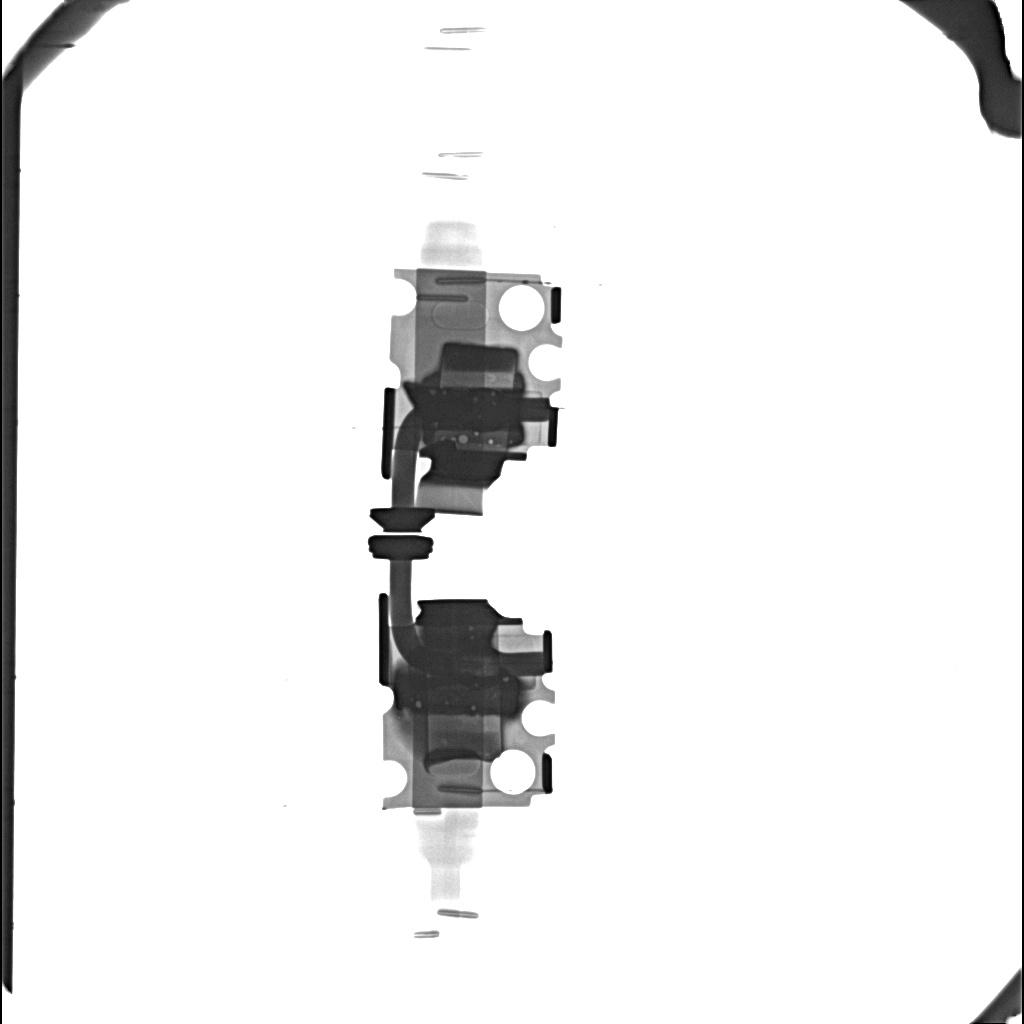PX: (424, 715, 504, 764), (438, 342, 518, 389)
QP: (458, 433, 468, 444), (488, 439, 494, 444)
SX: (395, 670, 518, 714), (406, 383, 521, 430)
